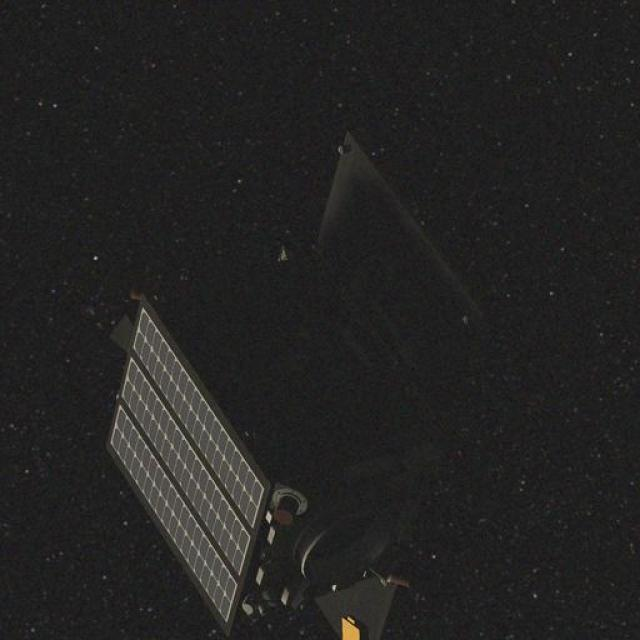proba_2: (82, 215, 518, 629)
